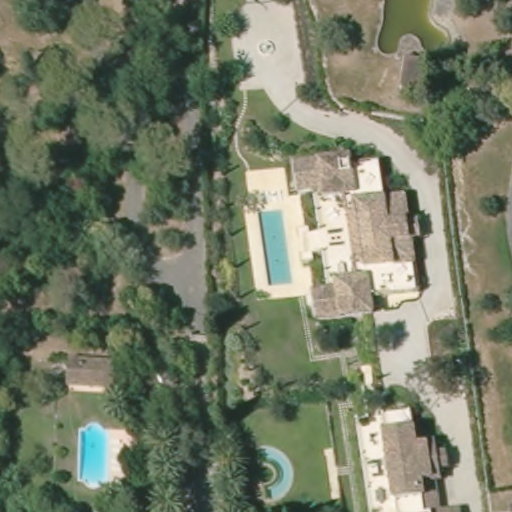pool: (254, 203, 302, 290), (72, 422, 119, 488)
